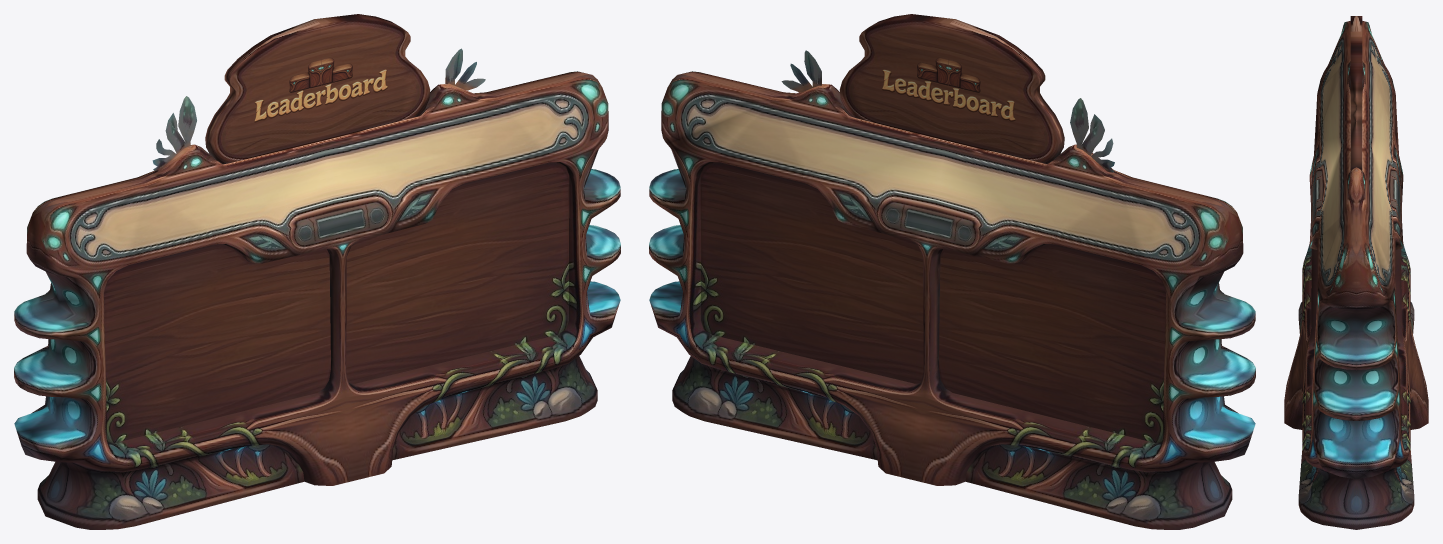
Rendered from LeaderBoard01.glb.
3 renders of one model, left to right at view 1: azimuth 30°, elevation 25°; view 2: azimuth 150°, elevation 25°; view 3: azimuth 270°, elevation 25°, orthographic. The views are drawn at different scales.
Parts seen in each view (by area): view 1: billboard; view 2: billboard; view 3: billboard.
Boxes of the visible parts, x1=… form: billboard: x1=14, y1=14, x2=620, y2=529; billboard: x1=649, y1=14, x2=1255, y2=529; billboard: x1=1284, y1=16, x2=1428, y2=529.
Size of what is drawn, in the model's own units: 6.74 by 4.64 by 1.6.
Materials: 2 (2 with a texture image).
